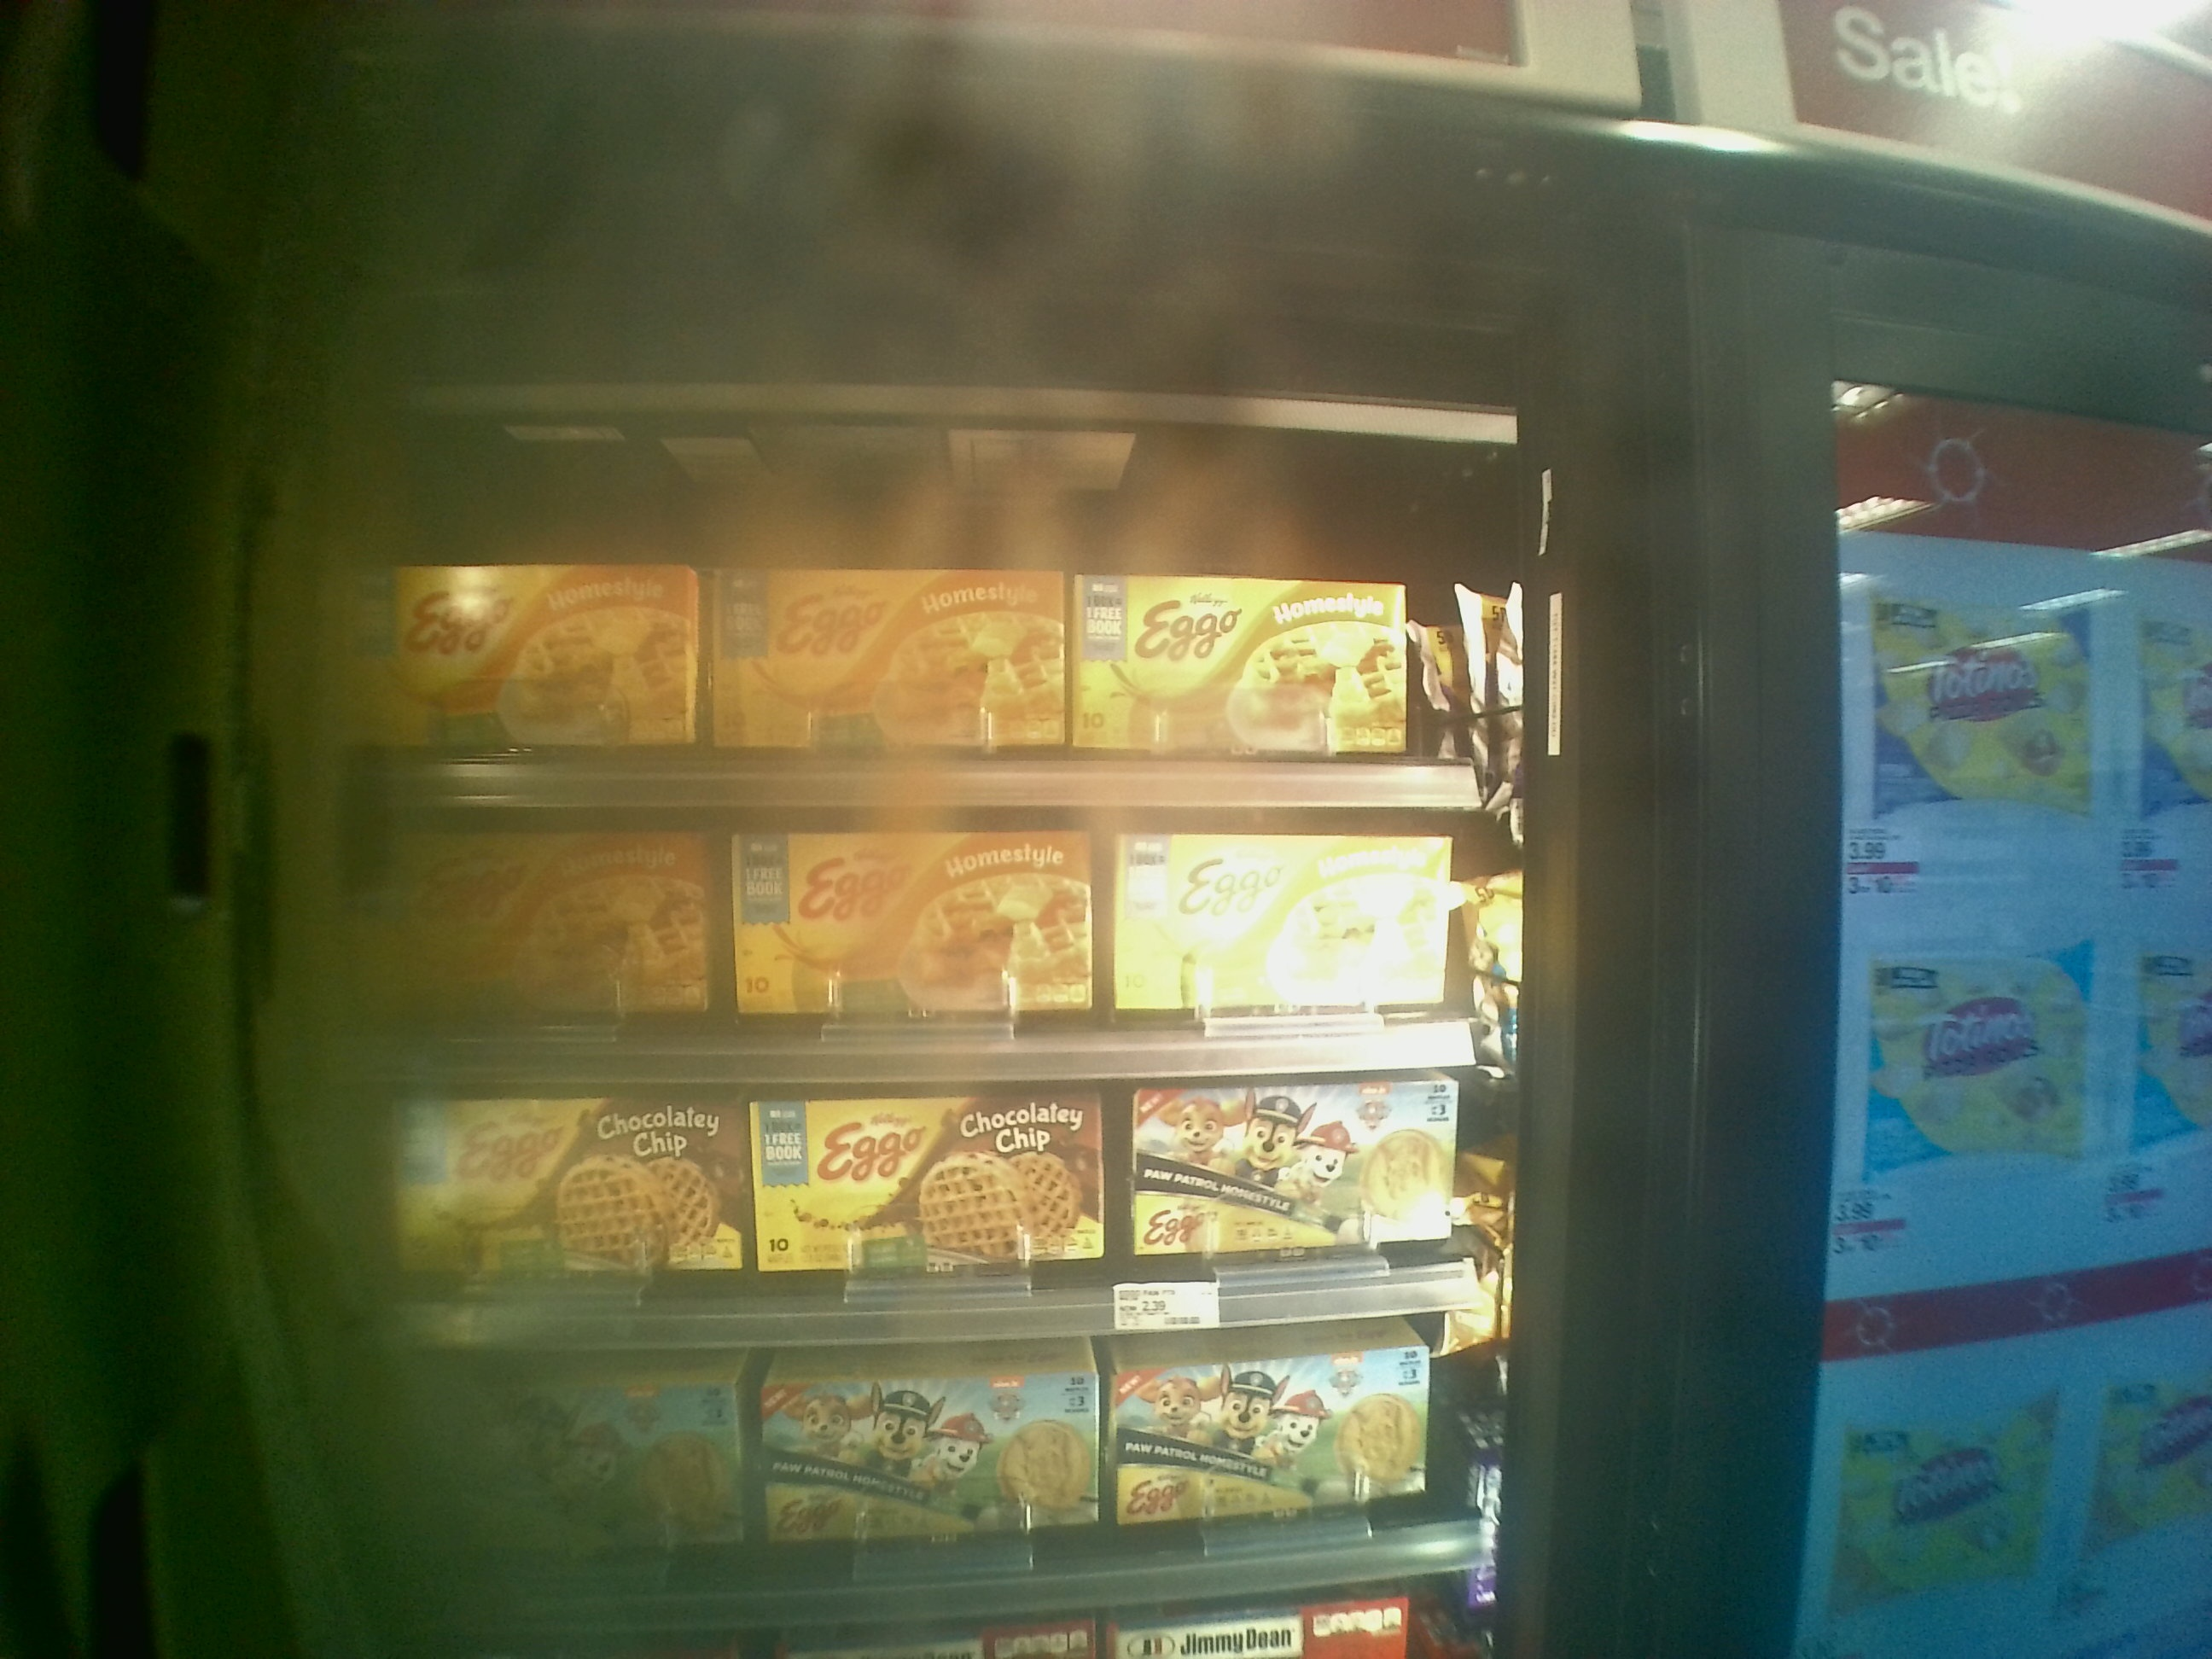shelf: (366, 375, 1493, 814), (357, 1054, 1503, 1359), (366, 803, 1498, 1079)
